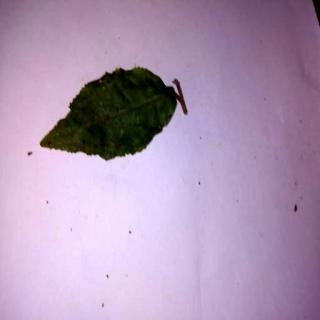Bird Eye Spot: (41, 67, 180, 162)
